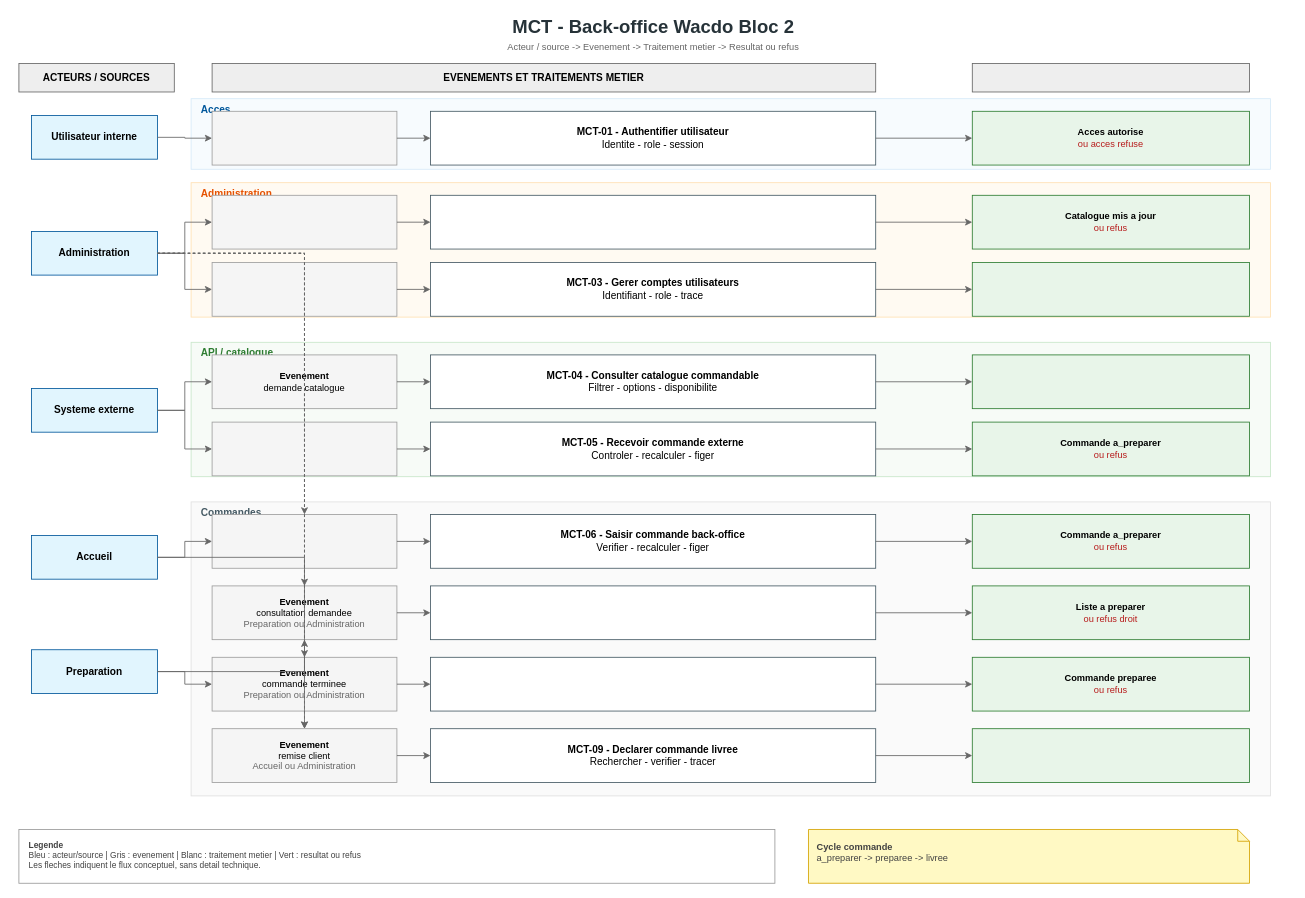
This 1305x898 diagram has some shape labels left out. Here are the shapes that lost their labels. From the top down, the box of each, then its label:
(971, 63, 1250, 92): RESULTATS / REFUS
(211, 110, 397, 165): Evenement demande connexion
(211, 194, 397, 249): Evenement creation / modification catalogue
(430, 194, 876, 249): MCT-02 - Gerer catalogue Droits - coherence - trace
(211, 262, 397, 316): Evenement creation / modification compte
(971, 262, 1250, 316): Compte mis a jour / créé / désactivé ou refus
(971, 354, 1250, 409): Catalogue retourne hors elements non commandables
(211, 421, 397, 476): Evenement commande transmise
(211, 514, 397, 568): Evenement commande saisie Accueil ou Administration
(430, 585, 876, 640): MCT-07 - Consulter commandes a preparer Recuperer - trier - afficher
(430, 656, 876, 711): MCT-08 - Declarer commande preparee Droit - statut - trace
(971, 728, 1250, 782): Commande livree ou refus
